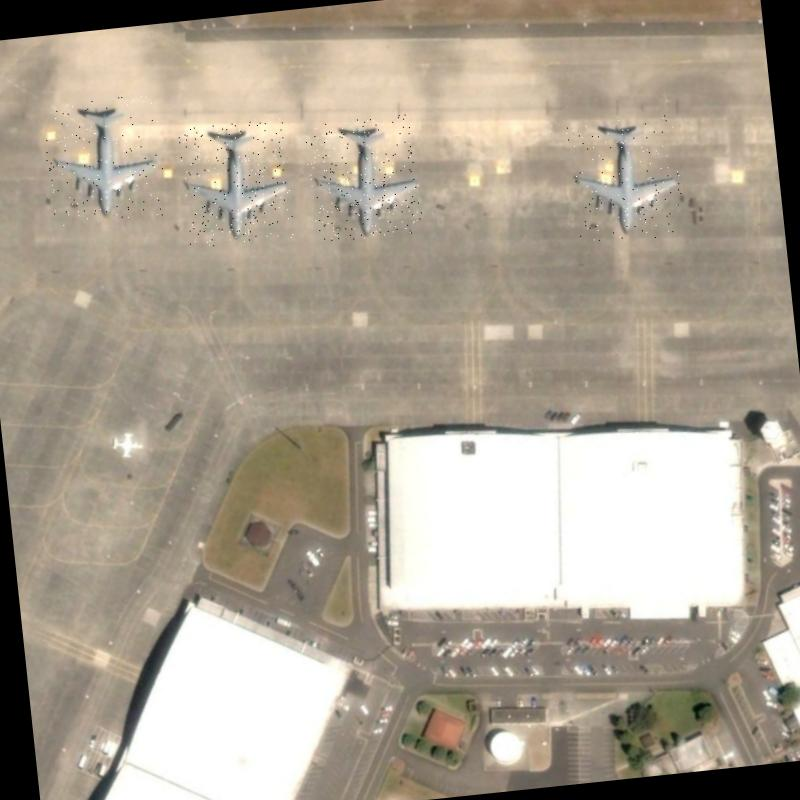A3: (40, 92, 168, 227), (565, 112, 685, 246), (302, 113, 424, 243), (178, 118, 294, 248)
